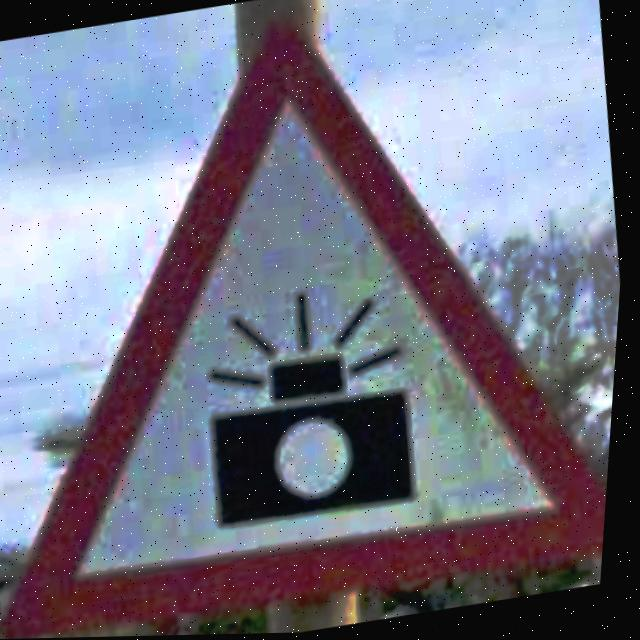speedcamera: (7, 20, 614, 639)
